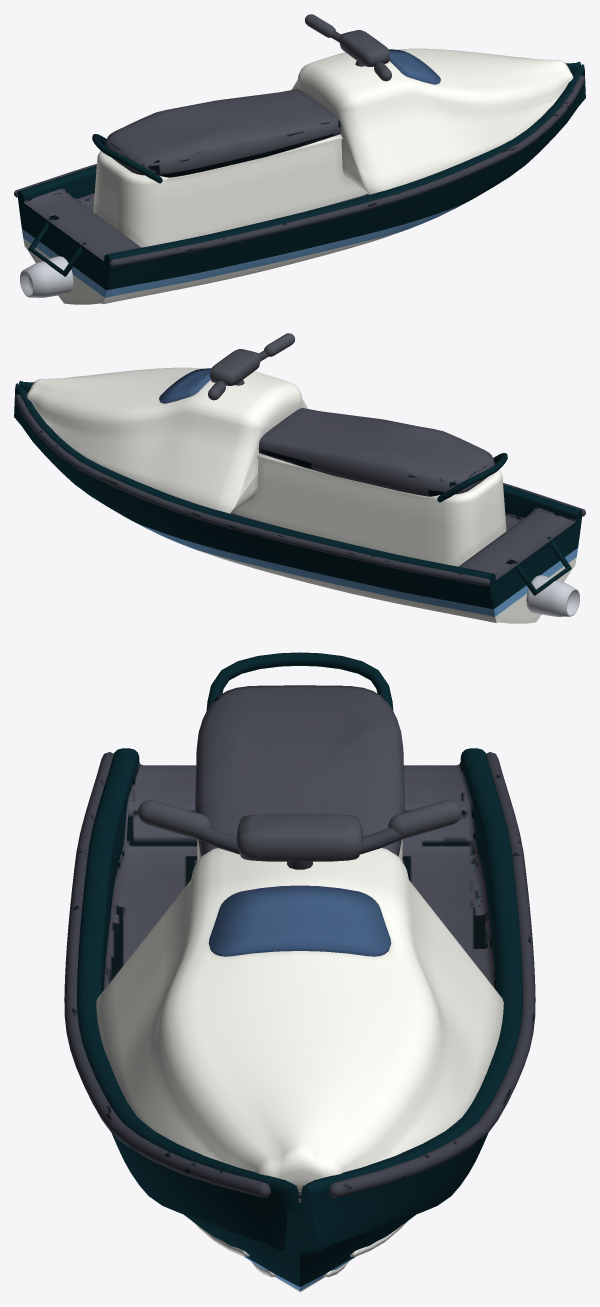
The model's file is sea-doo-gti-90-2018.glb.
3 views of the same model, one above another, from view 1: azimuth 30°, elevation 25°; view 2: azimuth 150°, elevation 25°; view 3: azimuth 270°, elevation 25° (orthographic). The views are drawn at different scales.
Parts seen in each view (by area): view 1: jet-ski_body, jet-ski_handlebar, jet-ski_jet_nozzle; view 2: jet-ski_body, jet-ski_handlebar, jet-ski_jet_nozzle; view 3: jet-ski_body, jet-ski_handlebar.
Boxes of the visible parts, bbox=[...] form: jet-ski_body: bbox=[14, 48, 585, 304]; jet-ski_handlebar: bbox=[305, 14, 391, 81]; jet-ski_jet_nozzle: bbox=[20, 256, 73, 297]; jet-ski_body: bbox=[14, 367, 585, 623]; jet-ski_handlebar: bbox=[208, 333, 294, 400]; jet-ski_jet_nozzle: bbox=[526, 575, 579, 616]; jet-ski_body: bbox=[64, 652, 535, 1292]; jet-ski_handlebar: bbox=[138, 800, 461, 869].
Bounding box in the file's own units: 3.35 × 1.14 × 1.23.
Materials: 4 (1 with a texture image).
